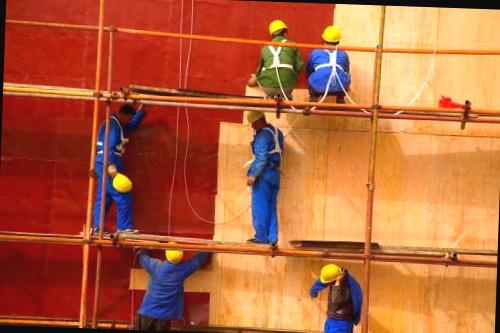no_helmet: (109, 102, 140, 130)
